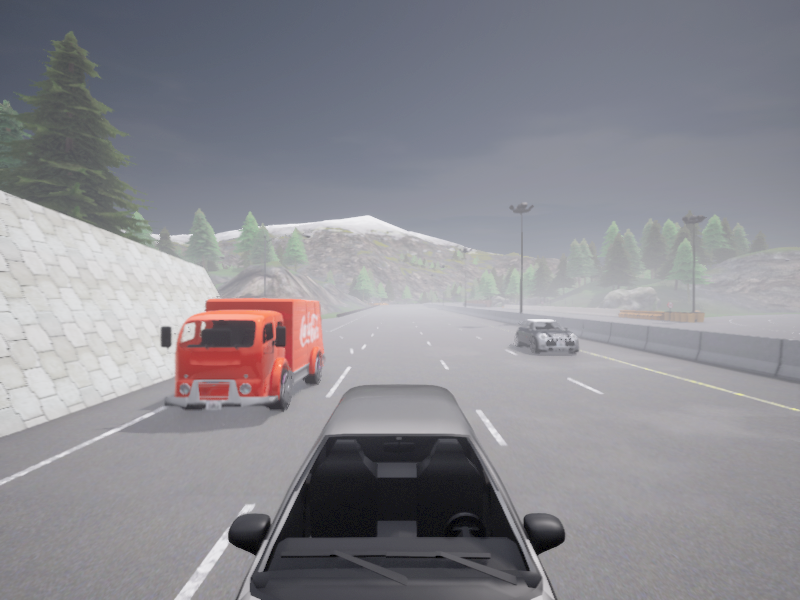vehicle: (228, 384, 564, 599), (161, 298, 325, 411), (515, 319, 578, 353)
